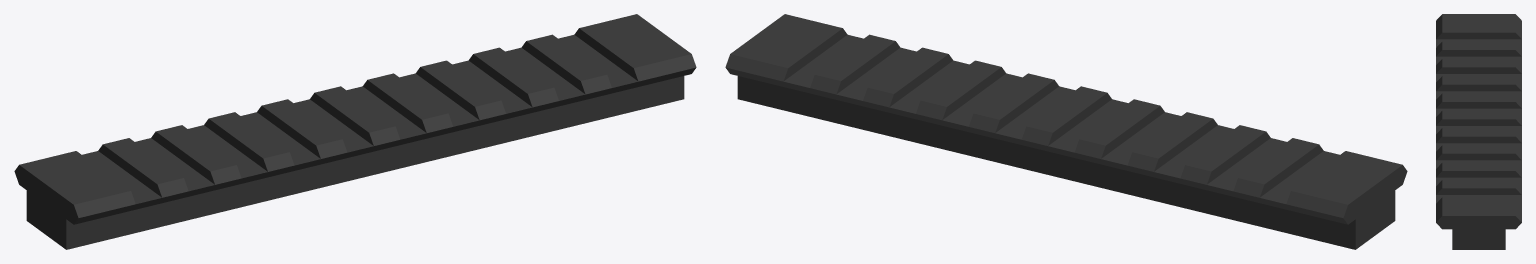
The model's file is Mod_02.fbx.
3 views of the same model, side by side, from view 1: azimuth 30°, elevation 25°; view 2: azimuth 150°, elevation 25°; view 3: azimuth 270°, elevation 25° (orthographic). The views are drawn at different scales.
Parts seen in each view (by area): view 1: Mod_02; view 2: Mod_02; view 3: Mod_02.
Part boxes in pixels (left/top/right/bottom): Mod_02: left=14, top=14, right=696, bottom=249; Mod_02: left=725, top=14, right=1407, bottom=249; Mod_02: left=1436, top=14, right=1521, bottom=249.
Bounding box in the file's own units: 0.1375 × 0.0108 × 0.0247.
